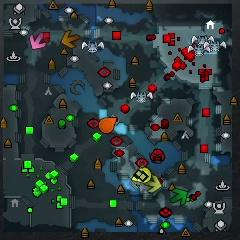p4: (132, 168, 151, 182)
p5: (99, 117, 118, 133)
x1: (29, 32, 46, 50)
x2: (144, 175, 161, 193)
x4: (171, 189, 187, 206)
x5: (61, 31, 80, 49)
